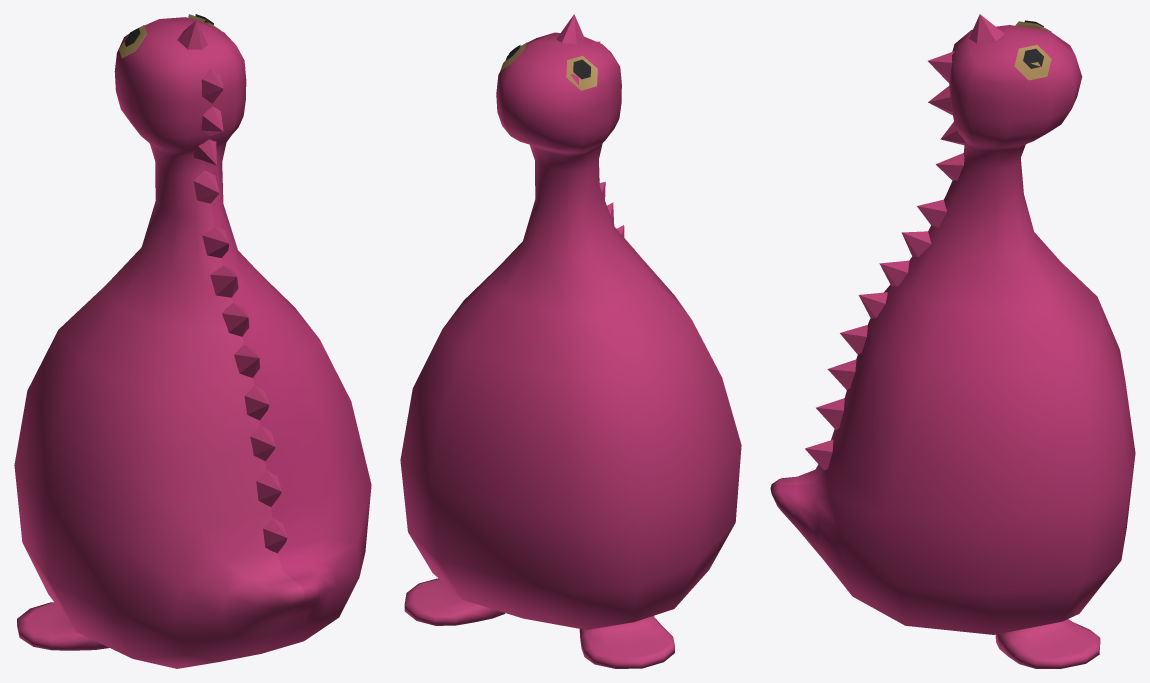
The model's file is Dinosaur.fbx.
3 renders of one model, left to right at view 1: azimuth 30°, elevation 25°; view 2: azimuth 150°, elevation 25°; view 3: azimuth 270°, elevation 25°, orthographic. The views are drawn at different scales.
Parts seen in each view (by area): view 1: Prop_Dino; view 2: Prop_Dino; view 3: Prop_Dino.
Part boxes in pixels (x1=…): Prop_Dino: x1=14, y1=14, x2=371, y2=668; Prop_Dino: x1=400, y1=14, x2=741, y2=668; Prop_Dino: x1=770, y1=14, x2=1135, y2=668.
Bounding box in the file's own units: 726 × 1483 × 826.
